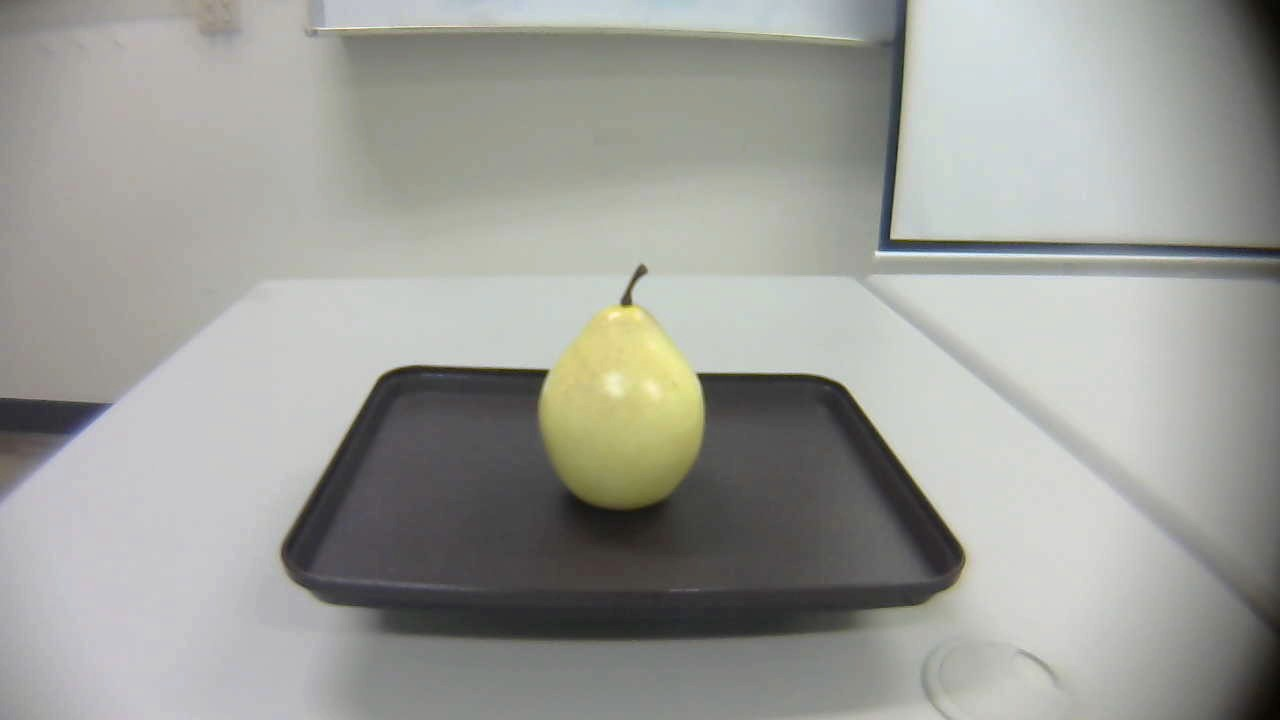western pear: (538, 261, 707, 514)
